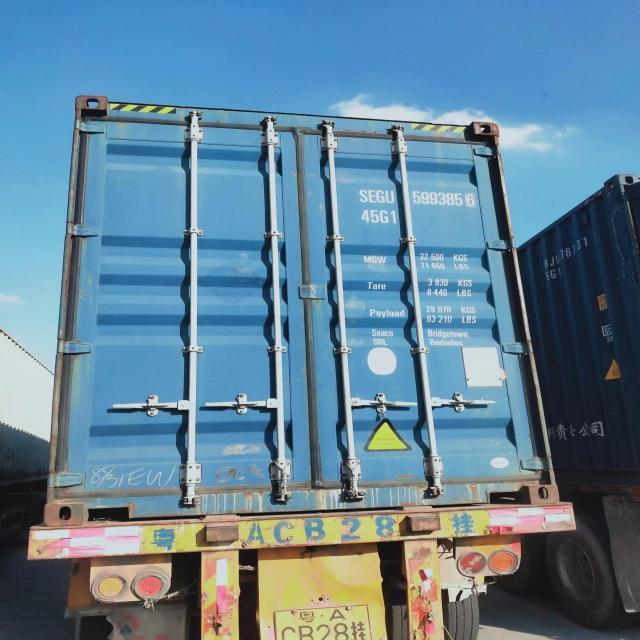ISO: (363, 210, 398, 226)
container_number: (264, 606, 432, 640), (356, 186, 470, 206)
